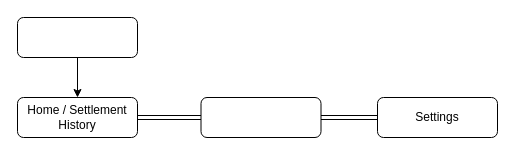
The diagram is 515 pixels wide and 155 high, and some of its shapes have lost their labels. The shapes that lost their labels are listed below. From the top down, each one's box as (x1, y1, x2, y2) in pixels, then its label:
(16, 16, 138, 58): Login / Signup
(200, 96, 321, 138): New Settlement
